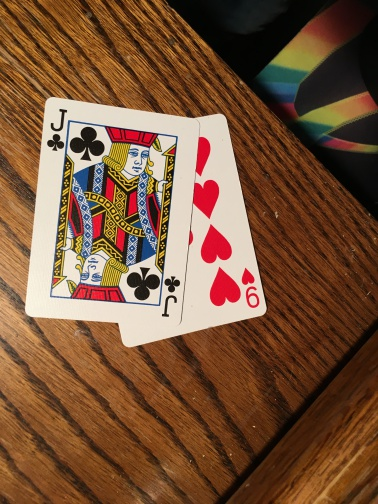jack: (26, 96, 200, 330)
nine: (176, 112, 267, 328)
